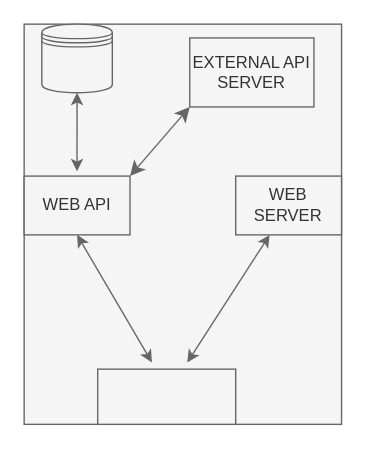
The diagram is 366 pixels wide and 449 high, and some of its shapes have lost their labels. Each missing label, with the box of its shape:
BROWSER: (96, 368, 236, 424)
MYSQL: (40, 23, 112, 93)
